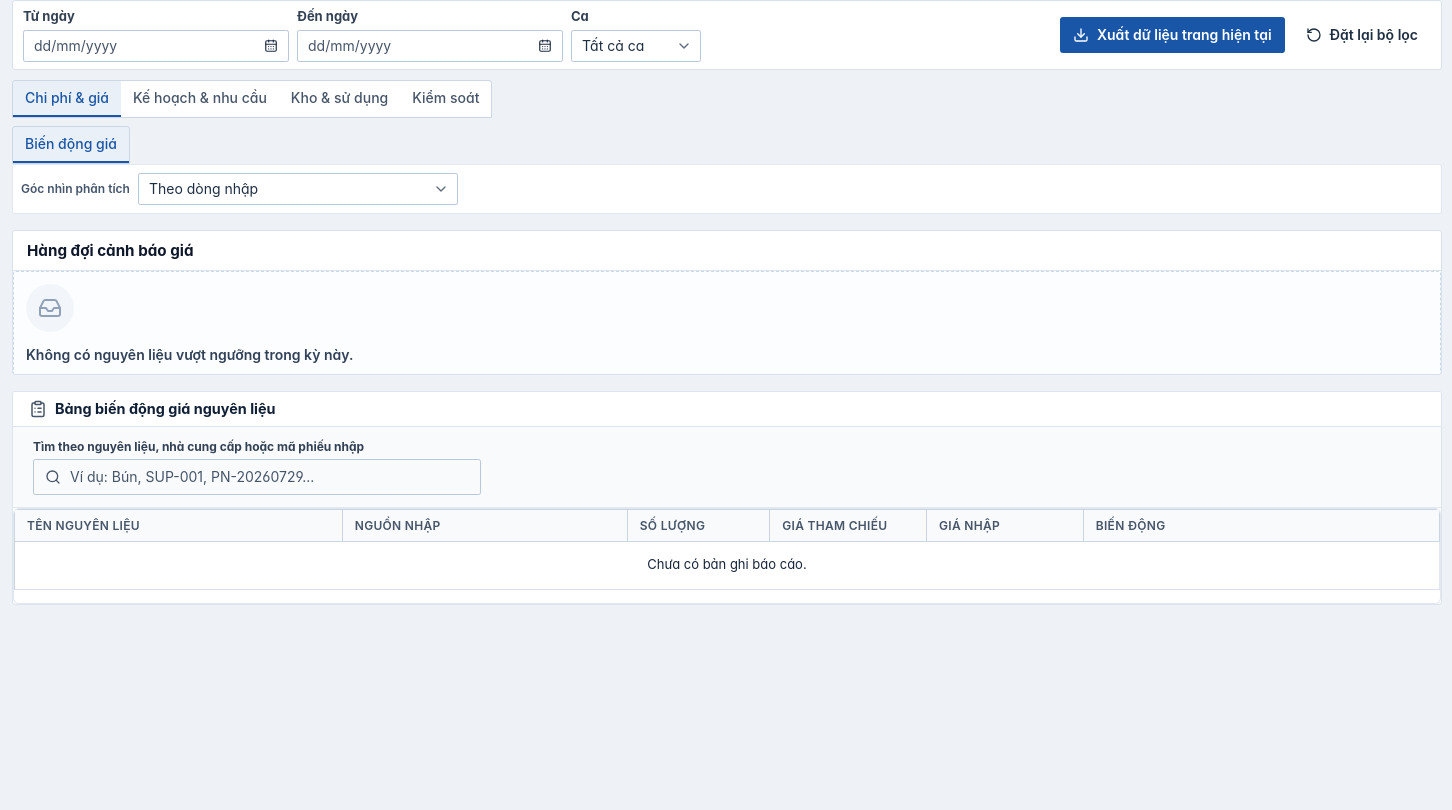
Test: ReportsPage tab visibility vs WorkflowReportsController policies › shows Thu mua price access and keeps the audit report admin-only
The width and height of the screenshot is (1452, 810).
Check: the tab "Biến động giá" is shown, box [13,126,129,162]
What coordinates should you click on to do the following:
click the tab "Kế hoạch & nhu cầu"
I would click on:
 (200, 98)
Its box is [121,80,279,116].
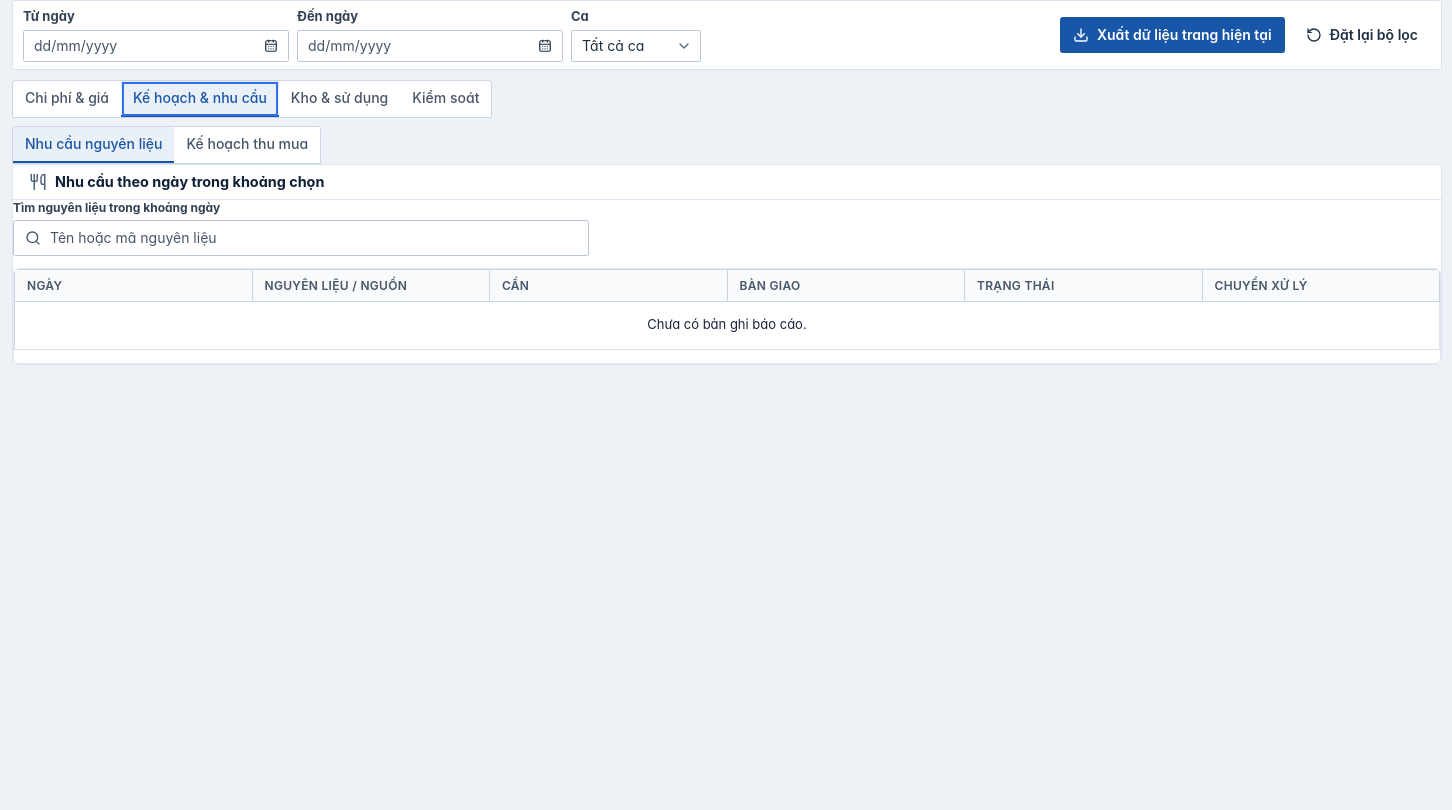
Check: the tab "Kế hoạch thu mua" is shown, box [174,126,320,162]
